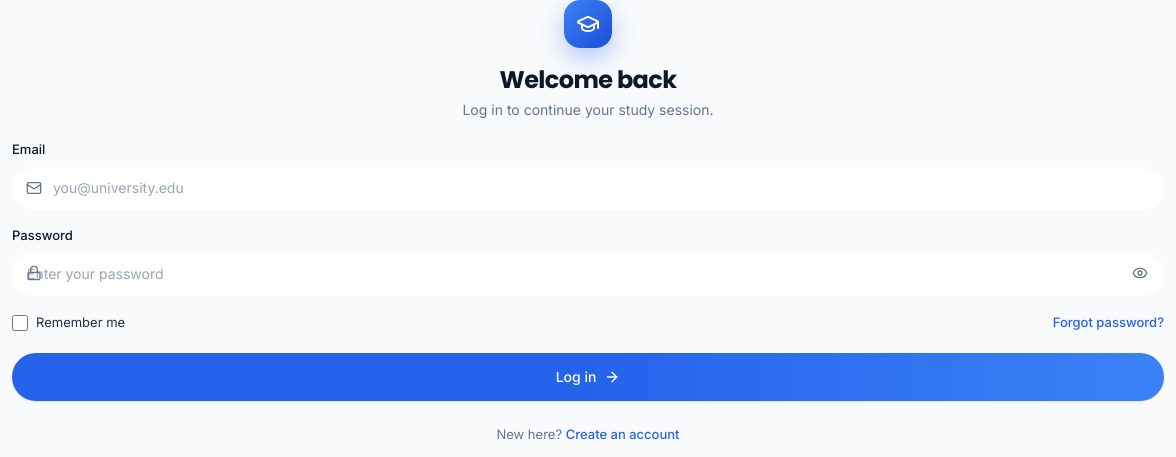
Scenario: LoginPage (T-UI-01, T-UI-02, T-UI-03, T-UI-06) › toggles password visibility with accessible state
The width and height of the screenshot is (1176, 457).
Click the button named "Show password".
click(1140, 273)  # box [1124,257,1156,289]
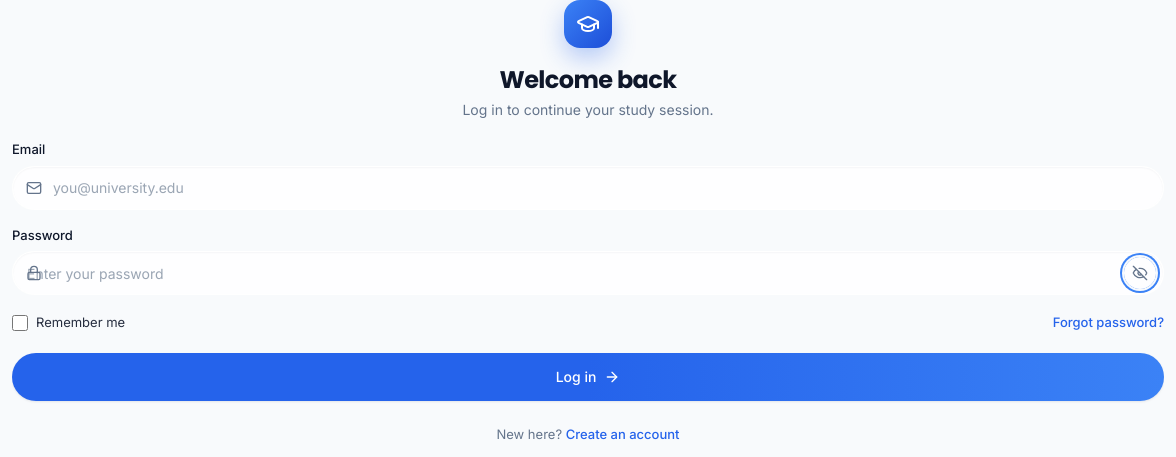
Check: the button named "Hide password" is pressed, box [1124,257,1156,289]
